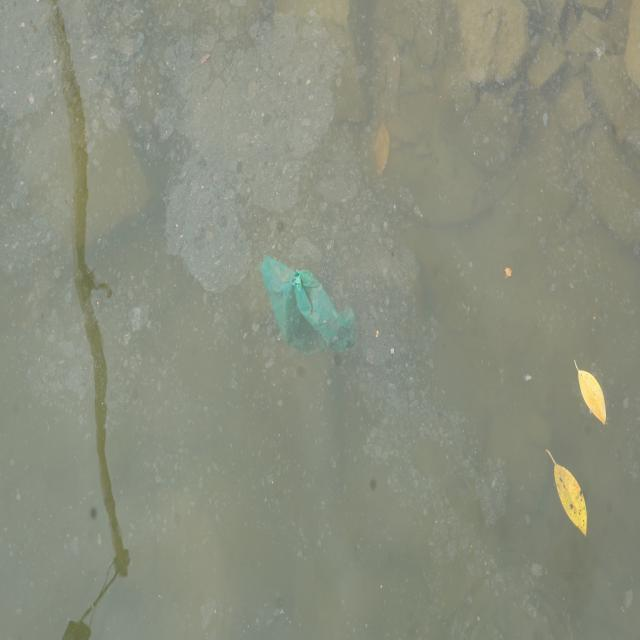Kantong Plastik: (257, 250, 361, 368)
